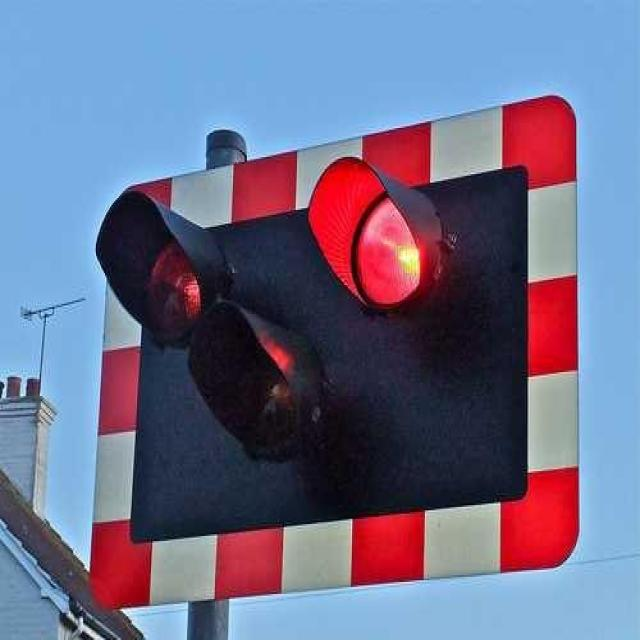Traffic Light -Red-: (88, 88, 586, 616)
